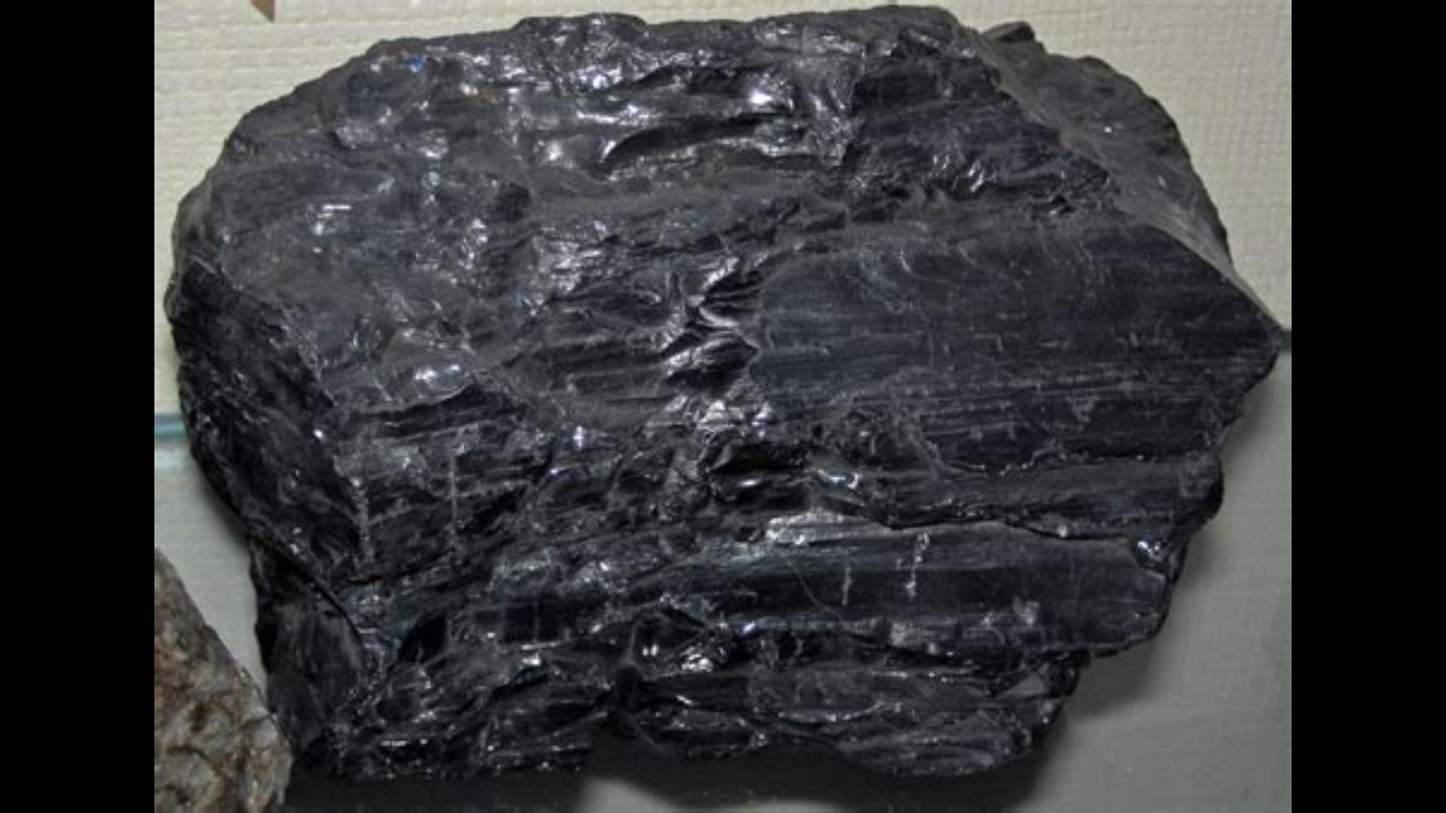rock: (166, 7, 1277, 777)
